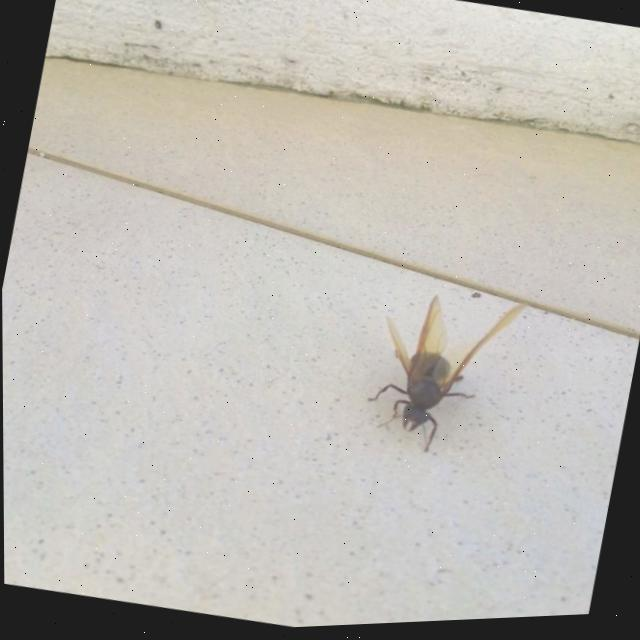Alive-Female-Alate: (357, 281, 529, 475)
